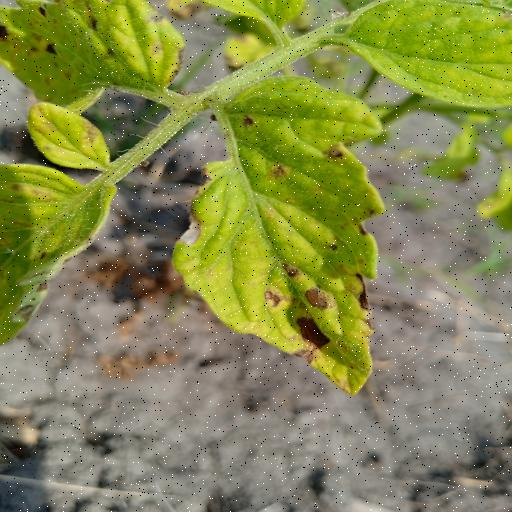Tomato_Brown_Spots: (171, 72, 424, 401)
